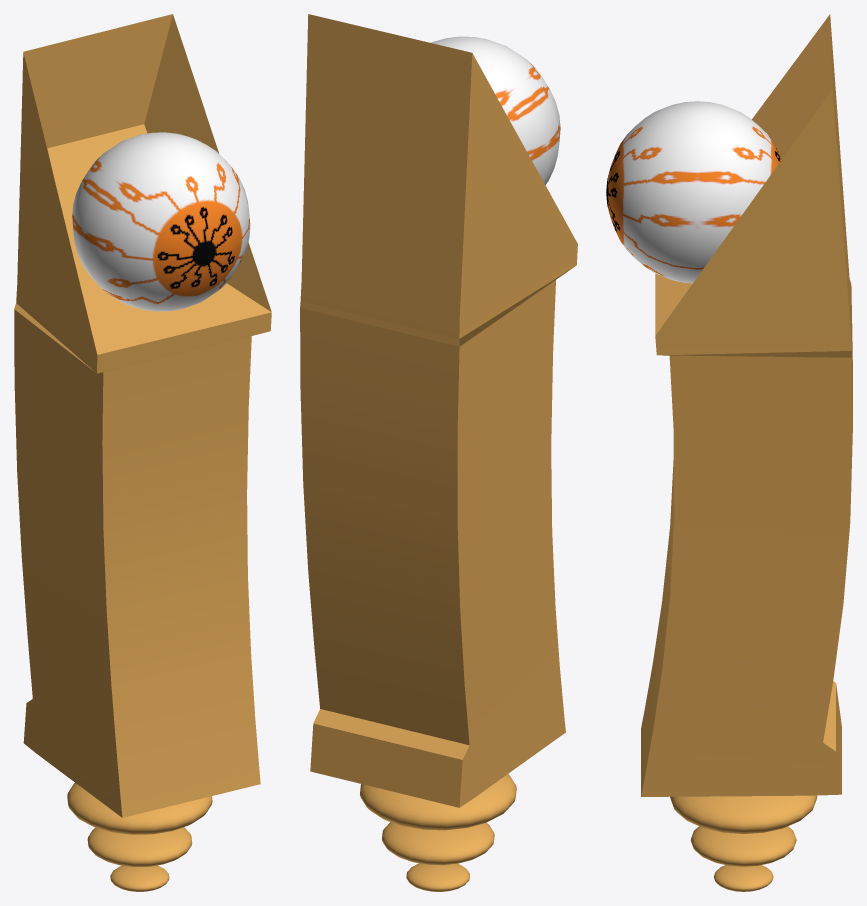
Rendered from OrangeIntCombined.fbx.
The picture shows the model from 3 angles, left to right: view 1: azimuth 30°, elevation 25°; view 2: azimuth 150°, elevation 25°; view 3: azimuth 270°, elevation 25°; orthographic projection. The views are drawn at different scales.
Visible parts, largest first — view 1: polySurface5; view 2: polySurface5; view 3: polySurface5.
Part boxes in pixels (left/top/right/bottom): polySurface5: left=14, top=14, right=271, bottom=891; polySurface5: left=300, top=14, right=577, bottom=891; polySurface5: left=606, top=14, right=852, bottom=891.
Bounding box in the file's own units: 1.34 × 6.04 × 1.62.
2 materials, 1 textured.
